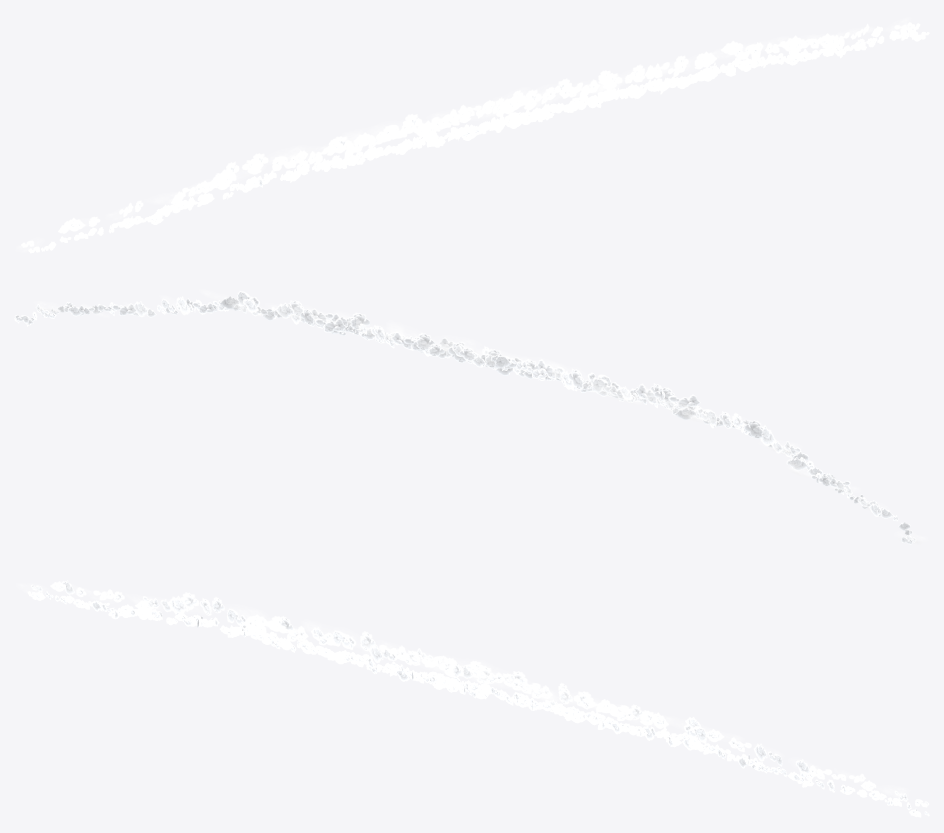
The model's file is wave_crest.glb.
3 renders of one model, top to bottom at view 1: azimuth 30°, elevation 25°; view 2: azimuth 150°, elevation 25°; view 3: azimuth 330°, elevation 25°, orthographic.
Size of the model in its own units: 616 by 45.9 by 51.43.
Materials: 3 (3 with a texture image).
